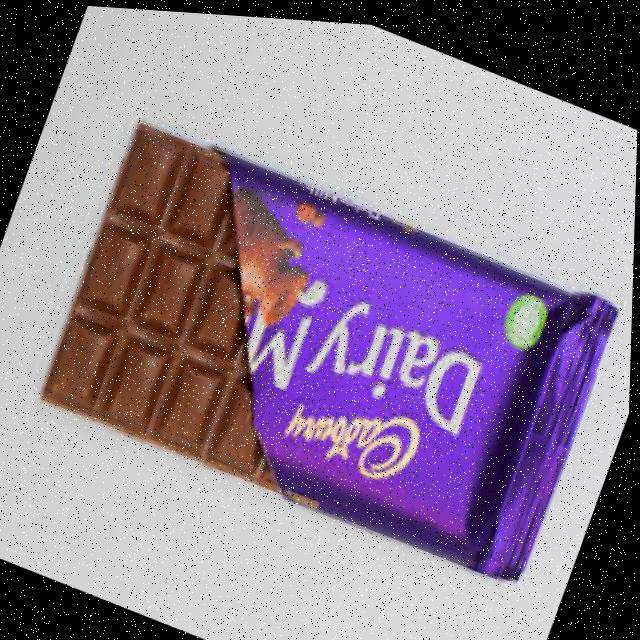cadbury_chocolate: (77, 127, 550, 575)
